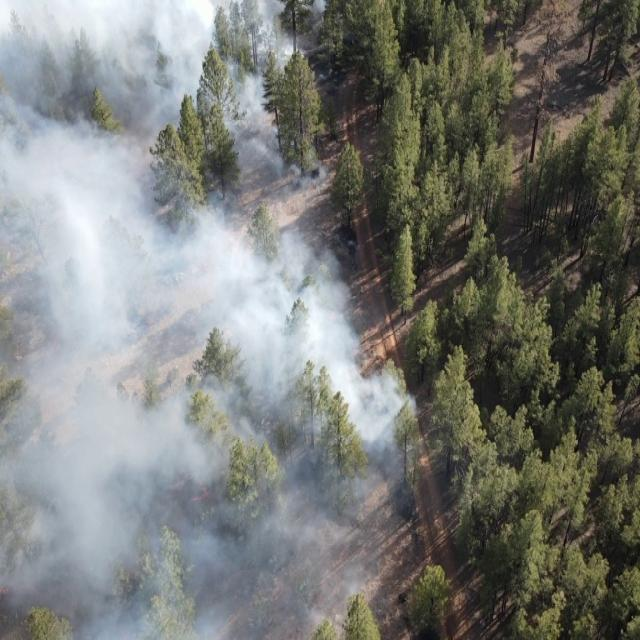fire: (190, 481, 216, 505), (0, 582, 21, 597)
smoke: (0, 0, 352, 640), (352, 341, 430, 640)
